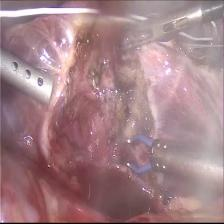Bipolar: (107, 130, 164, 176)
Grasper: (116, 13, 180, 54)
Irrigator: (0, 47, 55, 112)
Specimen Bag: (108, 1, 224, 78)
